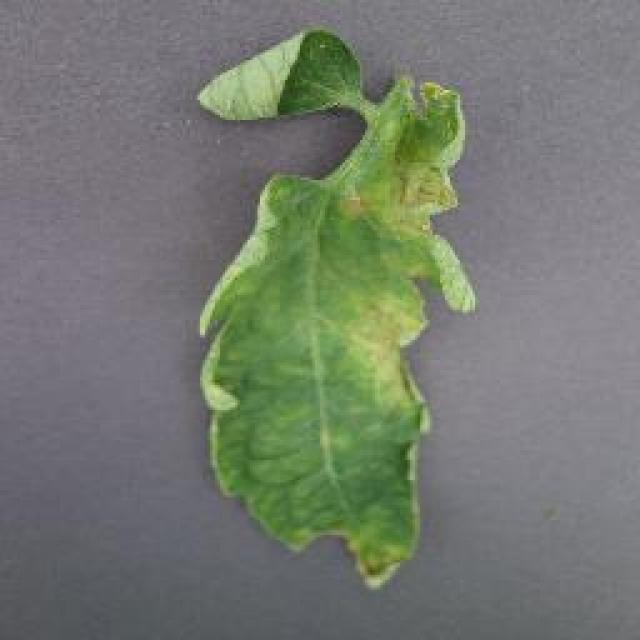Tomato Late Blight: (305, 90, 417, 427)
